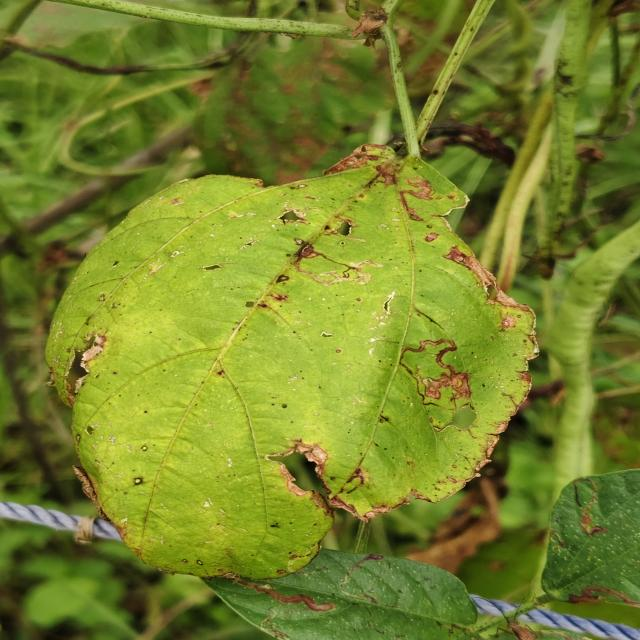11: (49, 0, 399, 47)
sitaw-aphid-low: (83, 144, 538, 559), (202, 549, 515, 640)
